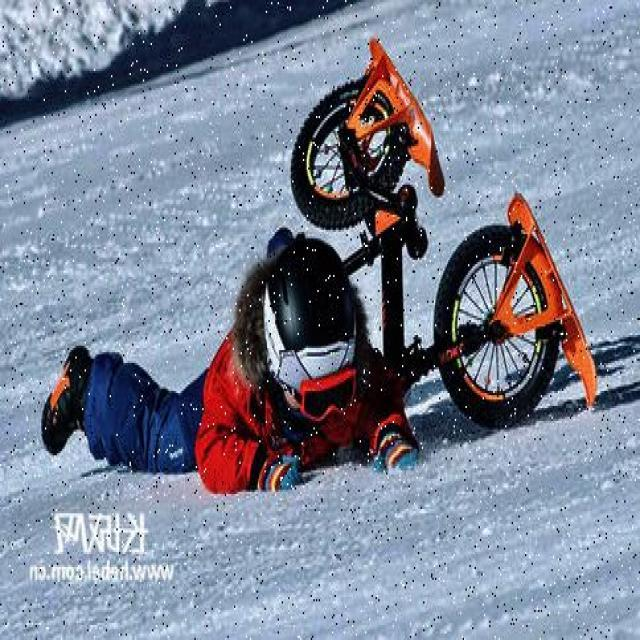fall: (43, 256, 420, 460)
